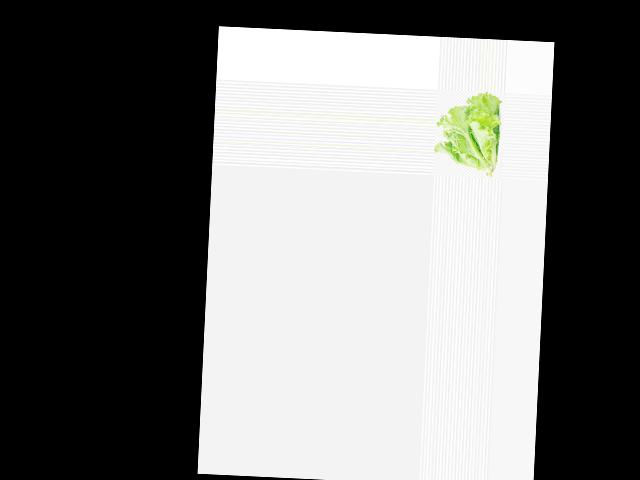lettuce: (433, 90, 500, 178)
